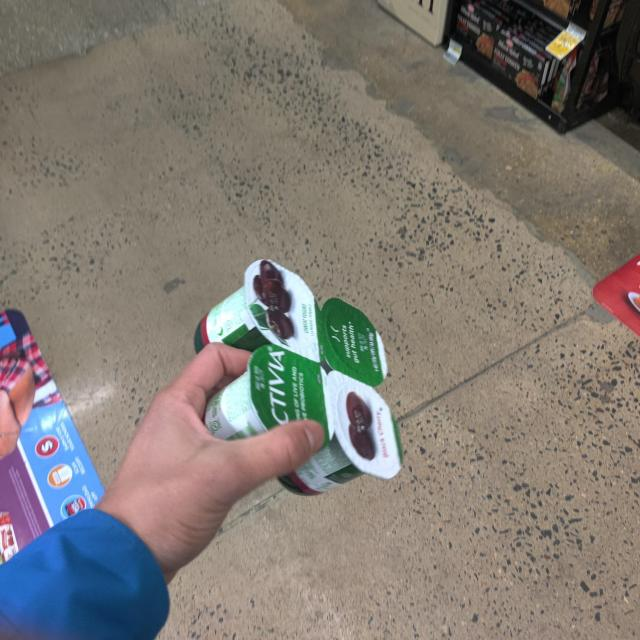Yogurt: (200, 264, 420, 494)
